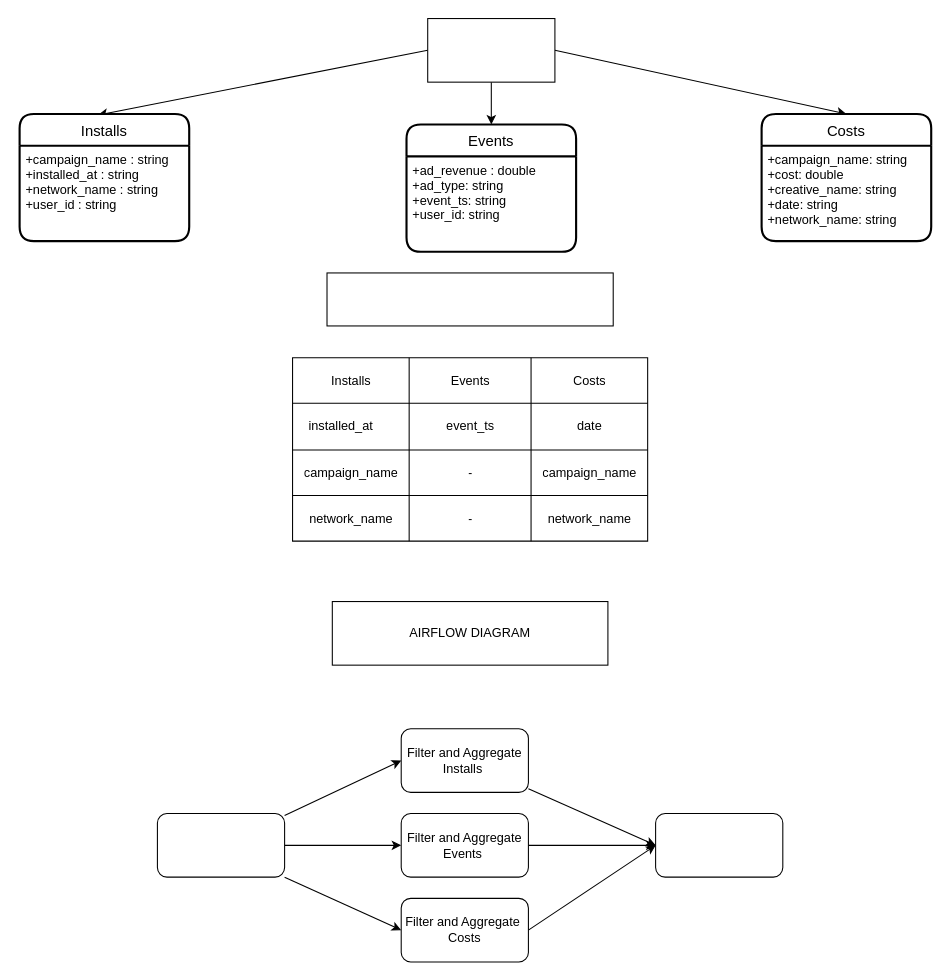
Some shapes in this 950 by 980 pixel diagram are drawn without their labels. The shapes that lost their labels are listed below. From the top down, each one's box as (x1, y1, x2, y2) in pixels, then its label:
(427, 17, 555, 82): API Endpoints
(326, 272, 613, 326): Common Dimensions
(156, 812, 285, 877): Fetch Data from API
(655, 812, 783, 877): Create Final Table
